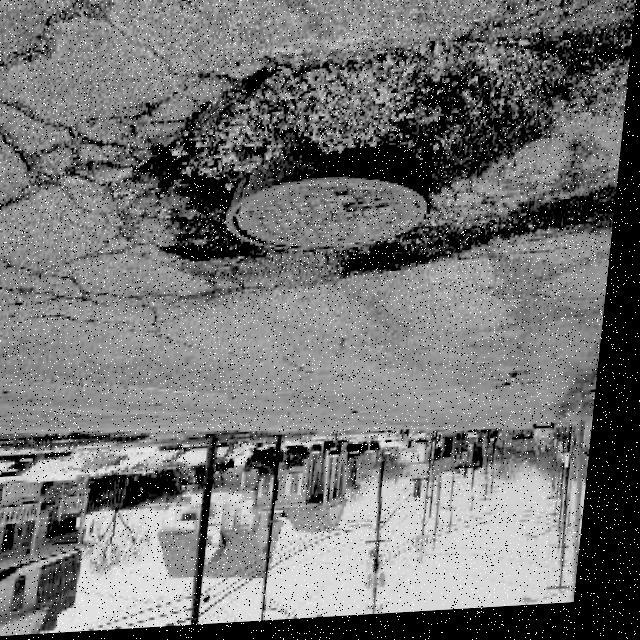pothole: (143, 29, 569, 224), (340, 190, 622, 288), (175, 218, 276, 275)
